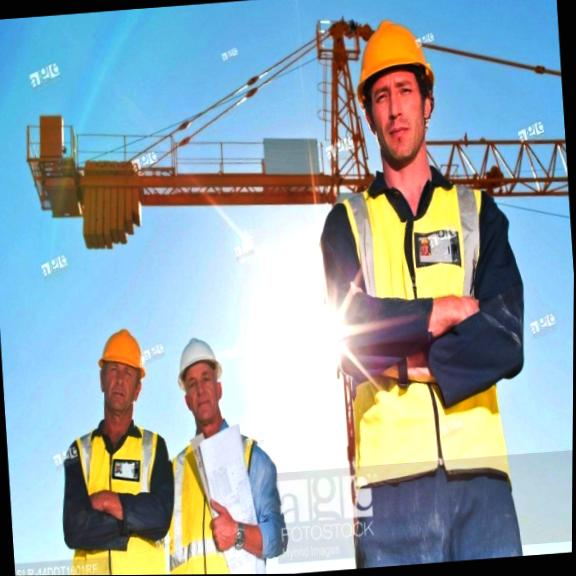safety_vest: (337, 191, 503, 495), (57, 428, 182, 576)
